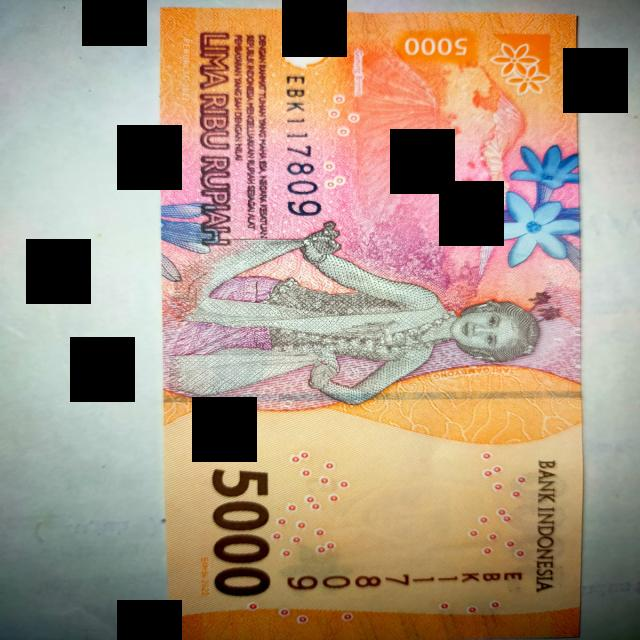lima ribu rupiah: (160, 8, 585, 640)
